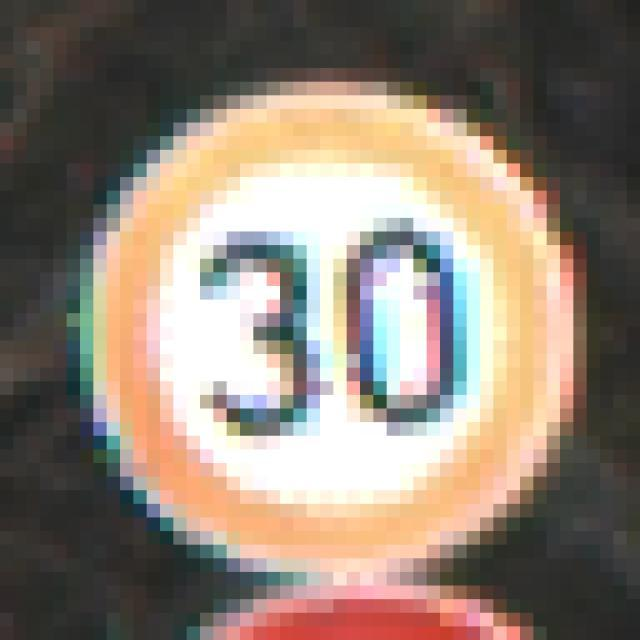Speed Limit -30-: (60, 61, 567, 565)
